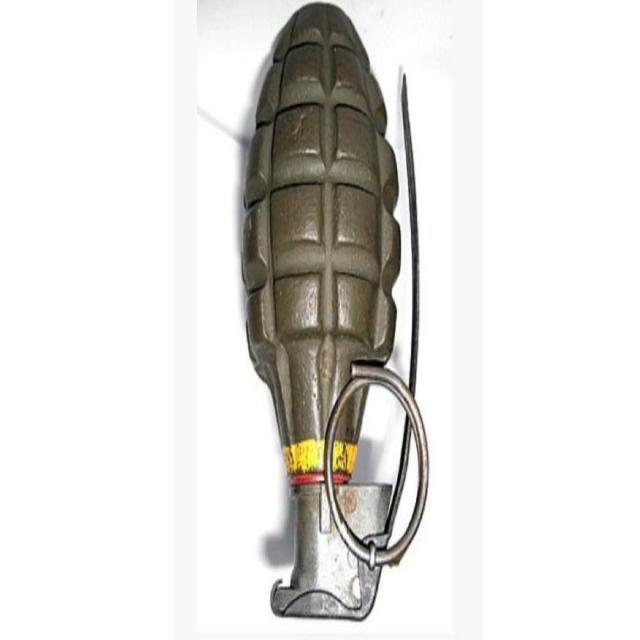grenade: (240, 3, 430, 618)
